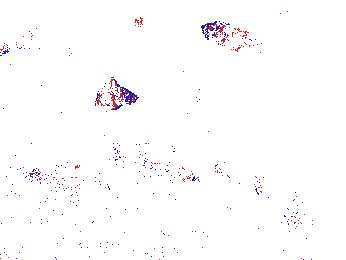X-ray fish: (201, 20, 263, 53), (97, 77, 139, 112), (282, 198, 315, 236)
red belly glassfish: (145, 159, 201, 187)
redtail glassfish: (23, 161, 109, 191), (1, 30, 74, 64), (207, 162, 270, 195), (107, 140, 188, 163)
